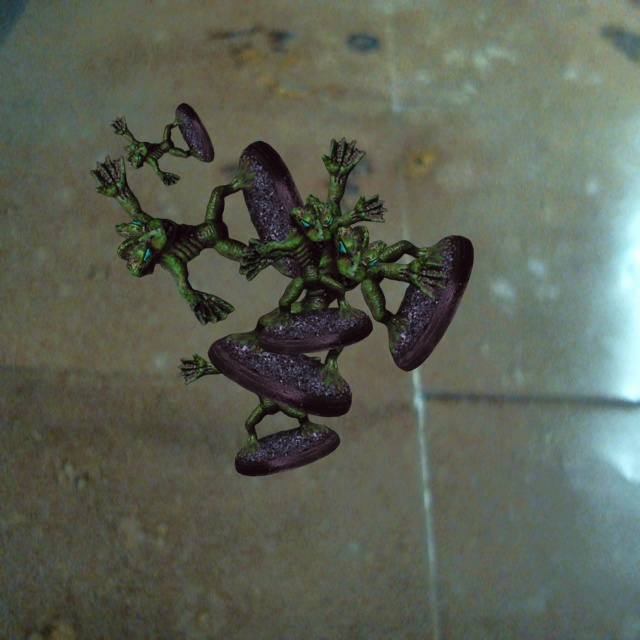pieza_juego: (208, 221, 447, 416), (286, 137, 473, 371), (90, 141, 316, 325), (241, 194, 387, 353), (178, 338, 339, 476), (110, 103, 214, 186)
